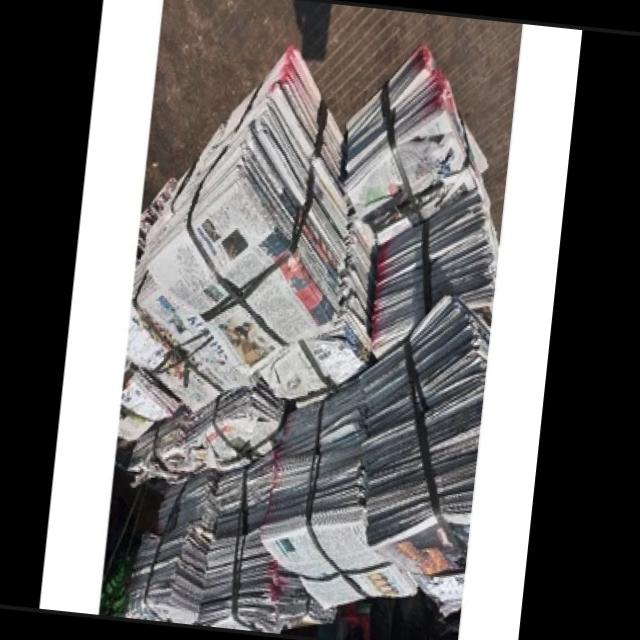Koran: (98, 19, 520, 640)
